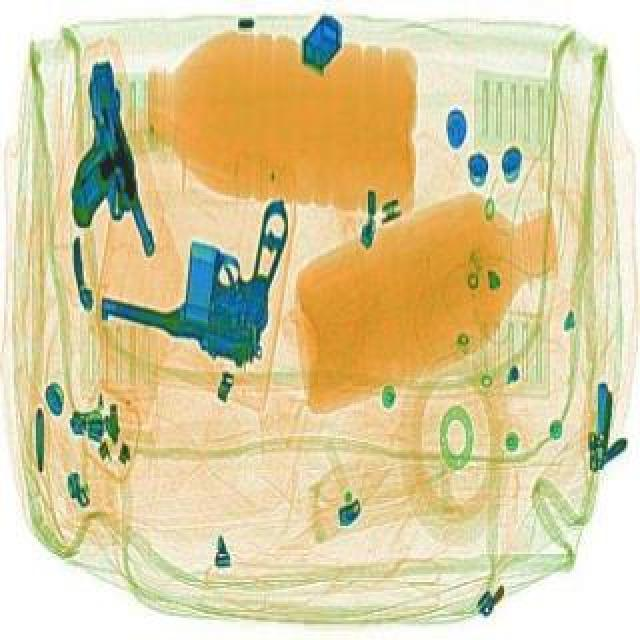gun: (92, 154, 316, 362), (34, 58, 162, 266)
